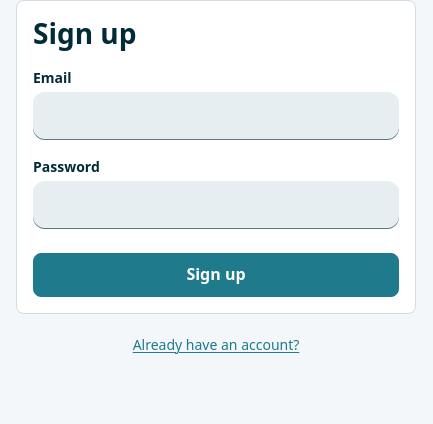
SignUpPage in the narrow form card › renders a request failure through InlineAlert (criterion 2)
Type "fan@example.test" into the field labelled "Email" at (216, 116), box [33, 92, 399, 140]
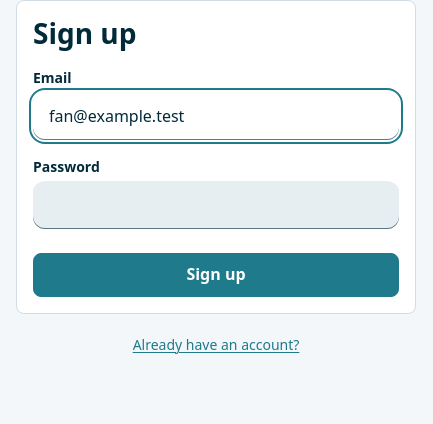
Type "Correct-Horse-Battery-1" into the password field labelled "Password" at (216, 205), box [33, 181, 399, 229]
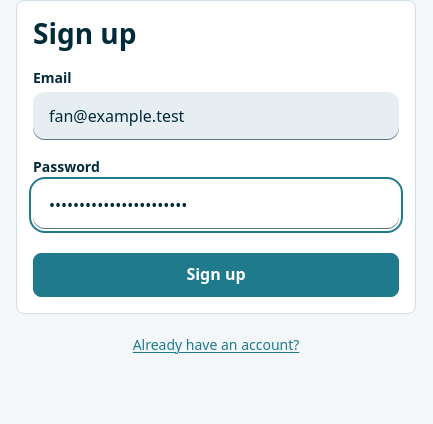
Click the button "Sign up" at (216, 275), box [33, 253, 399, 297]
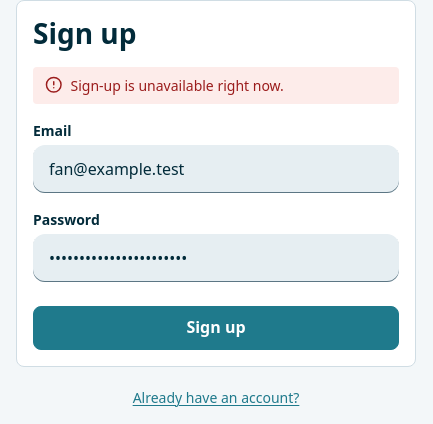
Now the message reads "Sign-up is unavailable right now.", box [70, 76, 284, 95]
